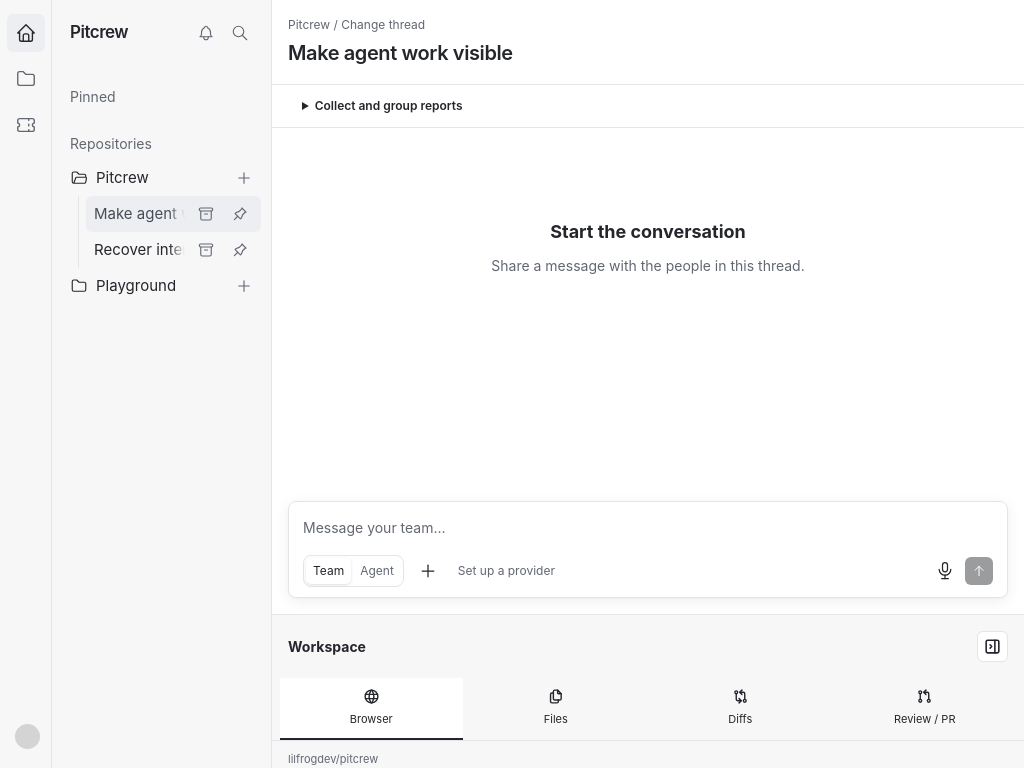
Test: sends an explicitly enabled shared message with no provider and never claims a task ran
Expected: the heading "Start the conversation" is shown, [550,221,746,242]
Expected: the button named "Attach files" is enabled, [412,555,444,587]
Type "Let’s work on this together." into the dropdown named "Message your crew" at point(648, 528), box [303,516,993,540]
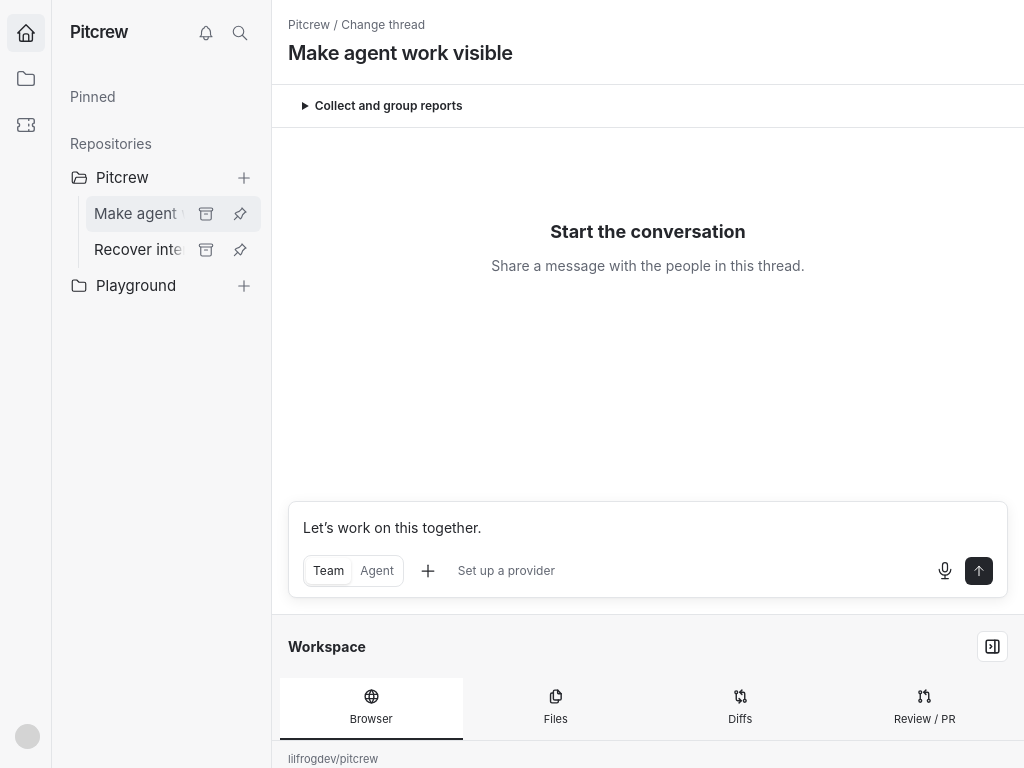
Click the button named "Send message" at point(979, 571), box [965,557,993,585]
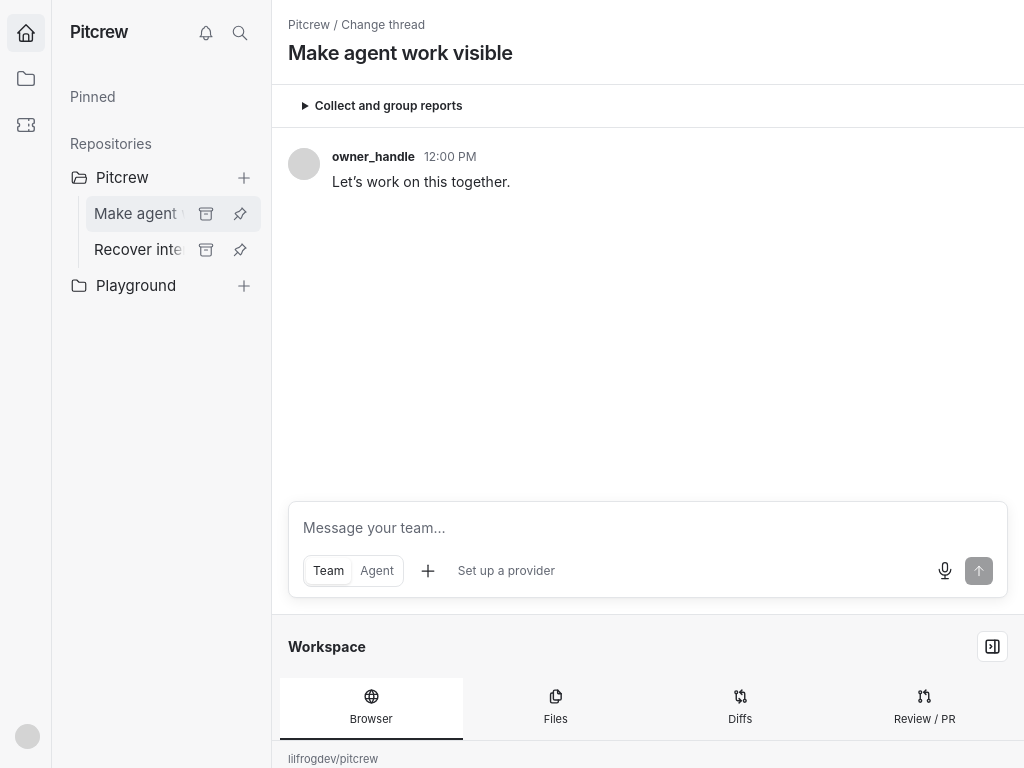
Expected: the button "Set up a provider" is shown, [452,556,561,586]
Result: the text "Let’s work on this together." is shown at [332,173,510,190]
Result: the text "owner_handle" is shown at [332,148,415,166]
